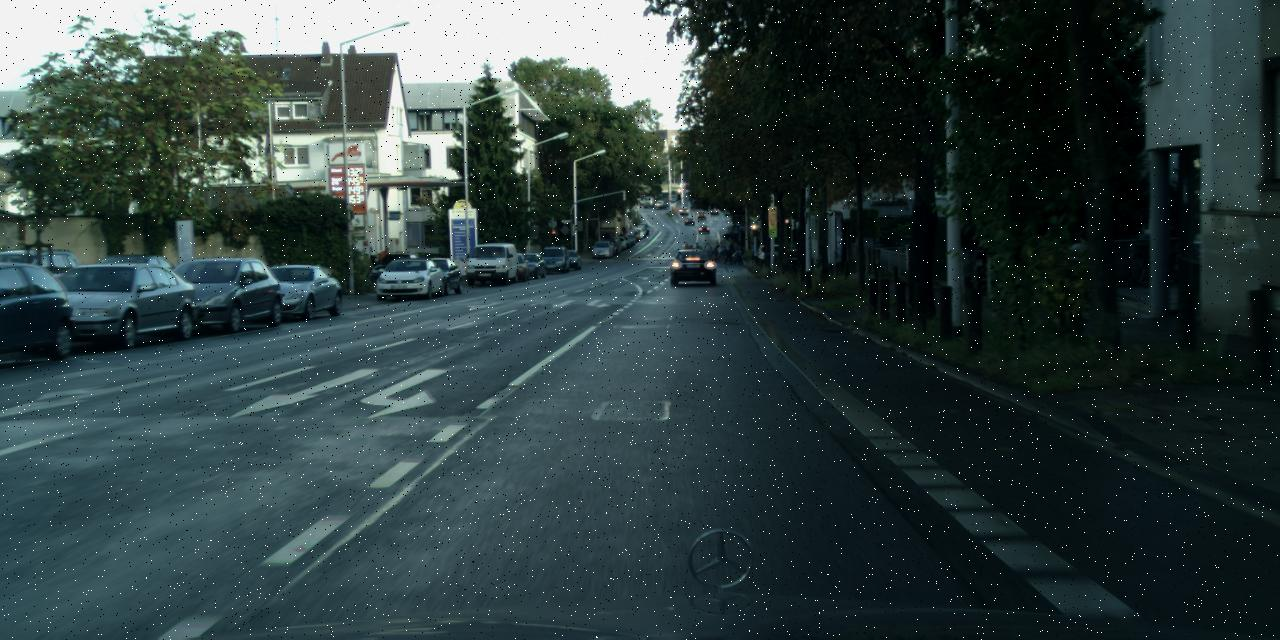ped: (1065, 230, 1101, 318), (379, 246, 392, 276), (732, 243, 744, 265), (724, 240, 734, 264), (718, 242, 728, 262), (711, 240, 719, 260), (703, 242, 710, 260), (682, 242, 689, 260), (748, 242, 755, 259), (688, 244, 694, 262), (694, 242, 700, 260), (604, 232, 609, 246), (622, 225, 626, 234), (635, 220, 637, 227), (713, 255, 715, 259)
